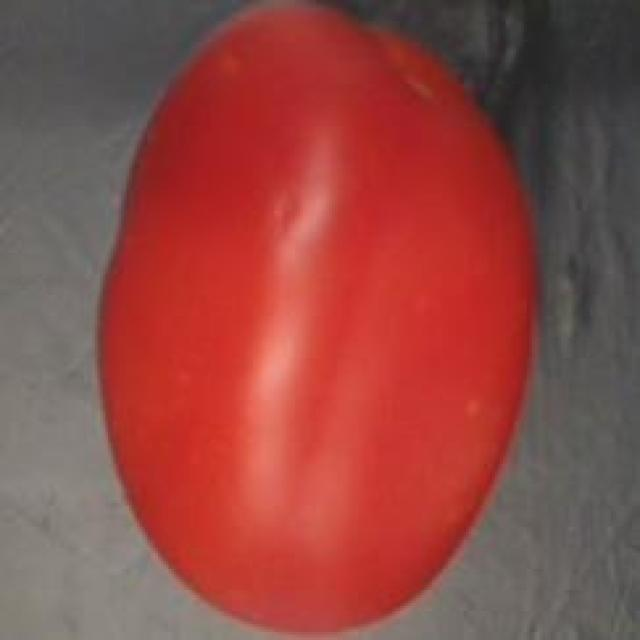ripe tomato: (79, 0, 558, 640)
